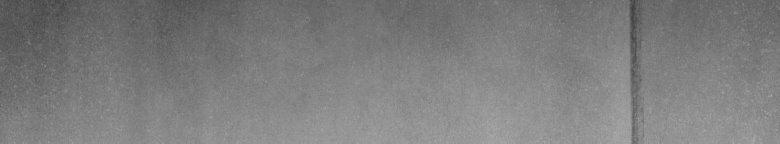hd: (624, 4, 644, 136)
